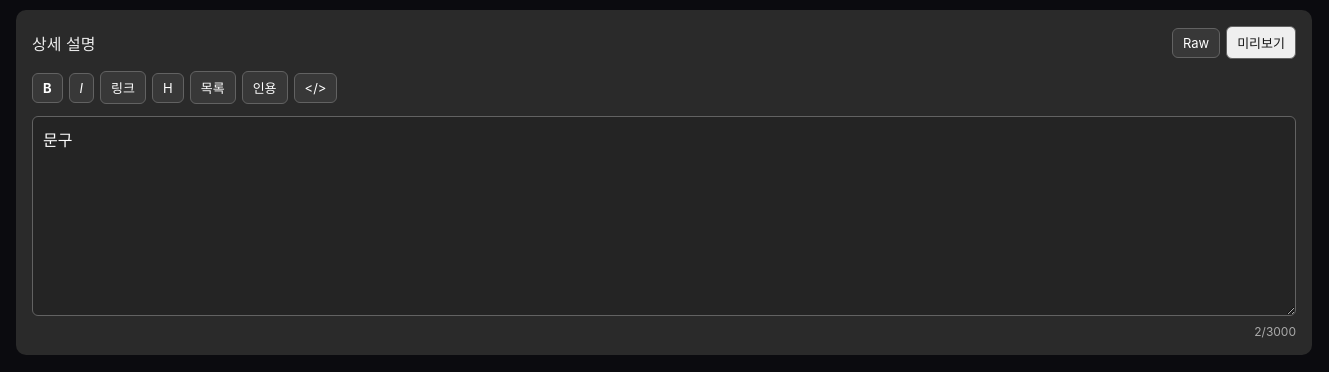
Test: 이탤릭 버튼은 선택 영역에 마크다운을 적용한다
Click the button "Raw".
click(1196, 42)  # box [1172, 28, 1220, 58]
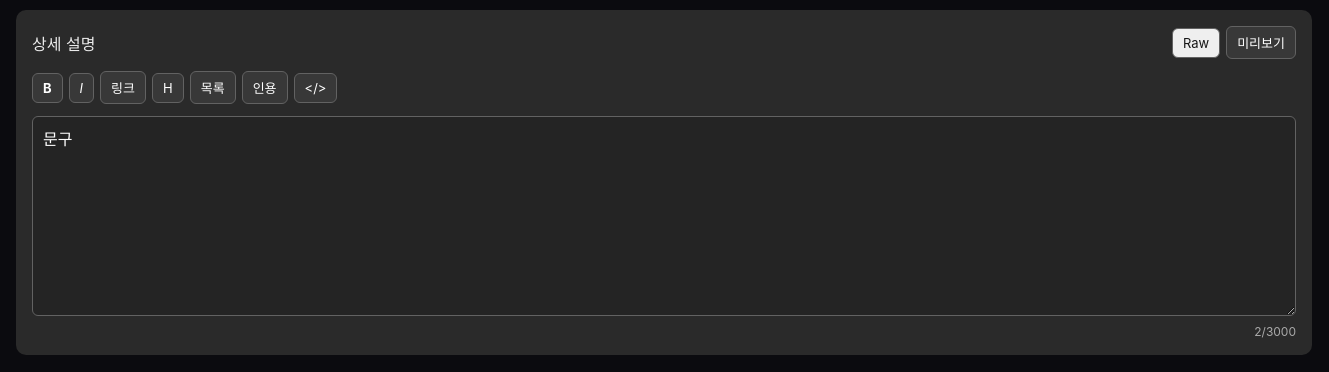
Click the button named "이탤릭".
click(81, 88)  # box [69, 72, 94, 102]
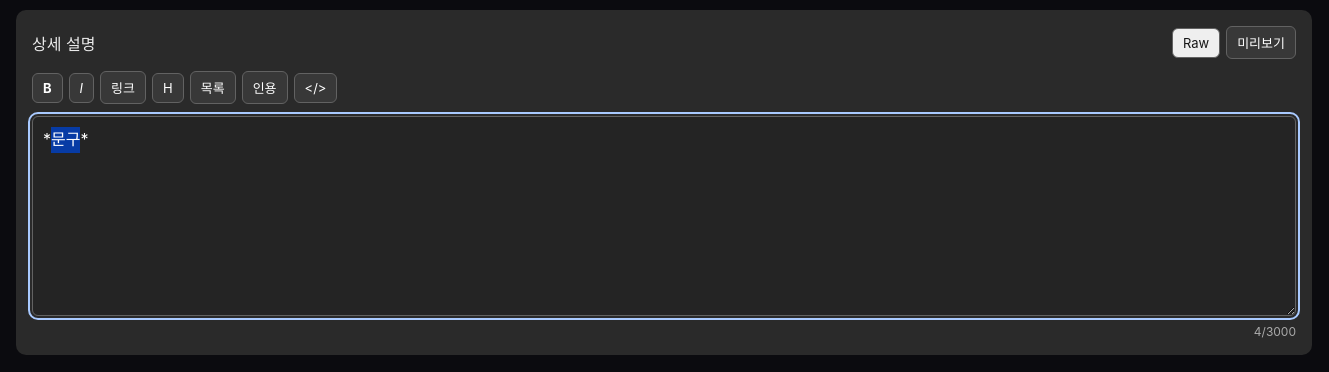
Check: the text box named "상세 설명" holds "*문구*", box [32, 116, 1296, 316]
